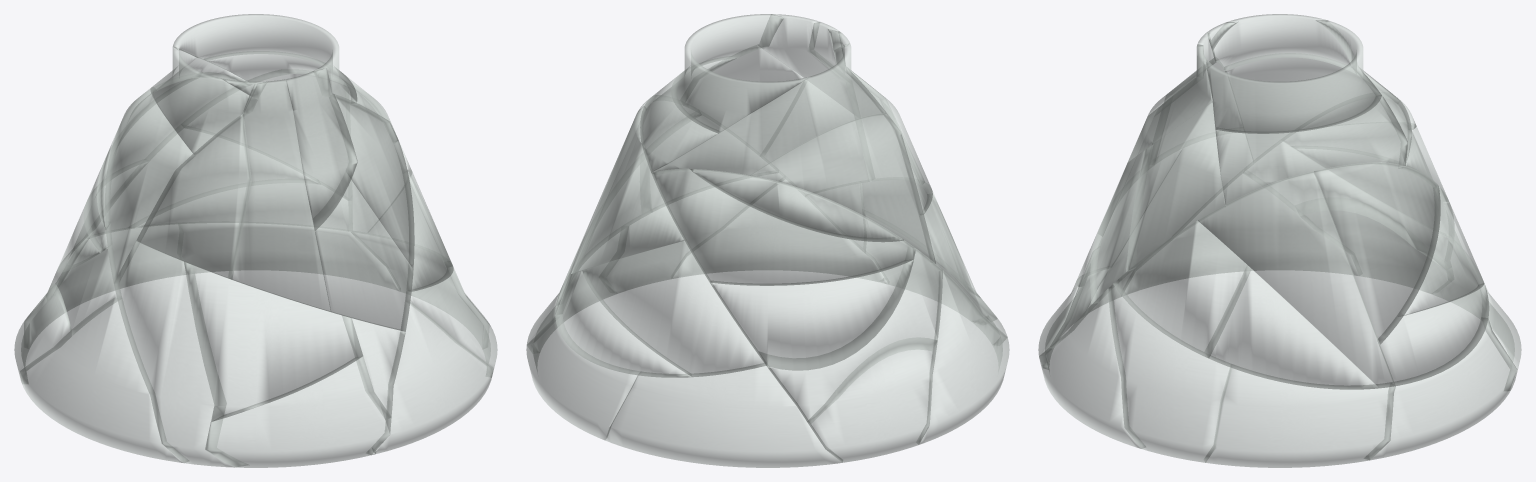
Rendered from fragments.glb.
The picture shows the model from 3 angles, left to right: view 1: azimuth 30°, elevation 25°; view 2: azimuth 150°, elevation 25°; view 3: azimuth 270°, elevation 25°; orthographic projection.
Visible parts, largest first — view 1: fragment-016-frosted, fragment-005-frosted, fragment-023-frosted, fragment-006-frosted, fragment-017-frosted, fragment-022-frosted, fragment-003-frosted, fragment-020-frosted, fragment-012-frosted, fragment-014-frosted, fragment-010-frosted, fragment-018-frosted (+18 smaller); view 2: fragment-009-frosted, fragment-028-frosted, fragment-018-frosted, fragment-008-frosted, fragment-014-frosted, fragment-030-frosted, fragment-015-frosted, fragment-031-frosted, fragment-012-frosted, fragment-006-frosted, fragment-024-frosted, fragment-013-frosted (+18 smaller); view 3: fragment-007-frosted, fragment-004-frosted, fragment-003-frosted, fragment-013-frosted, fragment-006-frosted, fragment-026-frosted, fragment-025-frosted, fragment-027-frosted, fragment-010-frosted, fragment-024-frosted, fragment-021-frosted, fragment-014-frosted (+18 smaller).
Boxes of the visible parts, x1=… form: fragment-016-frosted: x1=184, y1=262, x2=362, y2=421; fragment-005-frosted: x1=114, y1=241, x2=247, y2=467; fragment-023-frosted: x1=228, y1=79, x2=330, y2=311; fragment-006-frosted: x1=20, y1=296, x2=188, y2=462; fragment-017-frosted: x1=205, y1=356, x2=391, y2=467; fragment-022-frosted: x1=136, y1=84, x2=257, y2=279; fragment-003-frosted: x1=185, y1=69, x2=347, y2=199; fragment-020-frosted: x1=313, y1=172, x2=413, y2=331; fragment-012-frosted: x1=372, y1=301, x2=493, y2=453; fragment-014-frosted: x1=105, y1=87, x2=194, y2=283; fragment-010-frosted: x1=181, y1=223, x2=399, y2=290; fragment-018-frosted: x1=94, y1=128, x2=319, y2=236; fragment-009-frosted: x1=605, y1=363, x2=842, y2=467; fragment-028-frosted: x1=651, y1=168, x2=915, y2=285; fragment-018-frosted: x1=582, y1=240, x2=765, y2=376; fragment-008-frosted: x1=710, y1=259, x2=913, y2=370; fragment-014-frosted: x1=749, y1=113, x2=935, y2=263; fragment-030-frosted: x1=807, y1=337, x2=937, y2=462; fragment-015-frosted: x1=651, y1=44, x2=886, y2=176; fragment-031-frosted: x1=759, y1=247, x2=942, y2=423; fragment-012-frosted: x1=672, y1=179, x2=883, y2=281; fragment-006-frosted: x1=916, y1=270, x2=1009, y2=444; fragment-024-frosted: x1=671, y1=14, x2=808, y2=133; fragment-013-frosted: x1=606, y1=173, x2=784, y2=292; fragment-007-frosted: x1=1198, y1=171, x2=1395, y2=388; fragment-004-frosted: x1=1204, y1=364, x2=1395, y2=467; fragment-003-frosted: x1=1314, y1=162, x2=1440, y2=344; fragment-013-frosted: x1=1108, y1=283, x2=1232, y2=462; fragment-006-frosted: x1=1125, y1=174, x2=1358, y2=294; fragment-026-frosted: x1=1113, y1=220, x2=1251, y2=358; fragment-025-frosted: x1=1215, y1=95, x2=1407, y2=206; fragment-027-frosted: x1=1205, y1=265, x2=1378, y2=389; fragment-010-frosted: x1=1364, y1=317, x2=1516, y2=460; fragment-024-frosted: x1=1206, y1=20, x2=1381, y2=133; fragment-021-frosted: x1=1126, y1=102, x2=1225, y2=271; fragment-014-frosted: x1=1224, y1=53, x2=1399, y2=163.
Bounding box in the file's own units: 0.22 × 0.16 × 0.22.
Materials: 1 (1 with a texture image).
